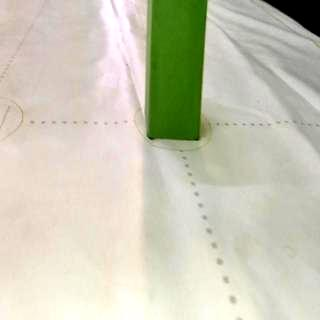greenbox: (146, 1, 210, 141)
